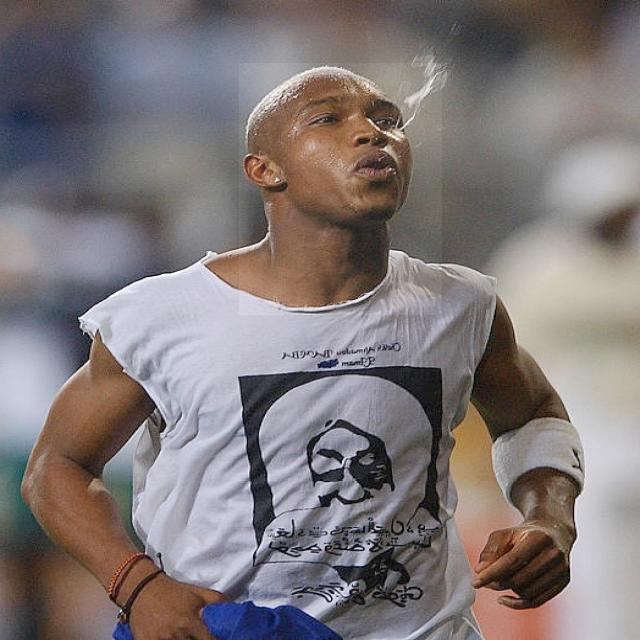Spitting: (239, 63, 442, 315)
